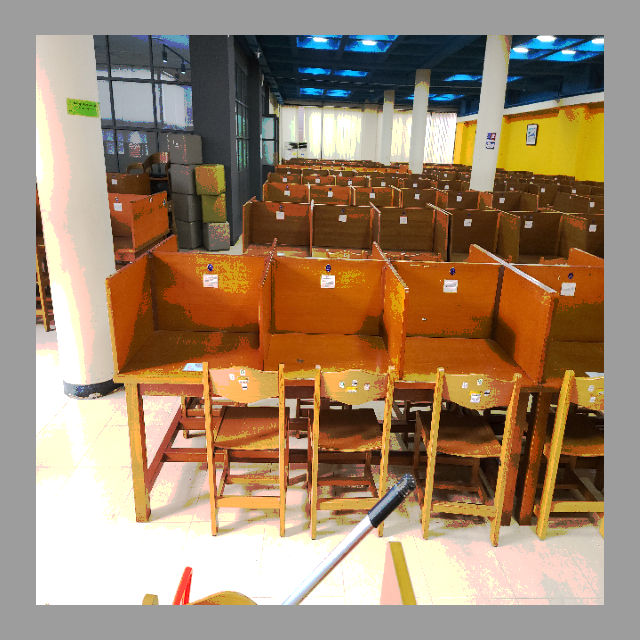empty: (112, 253, 267, 450), (412, 246, 546, 447), (271, 246, 405, 437)
